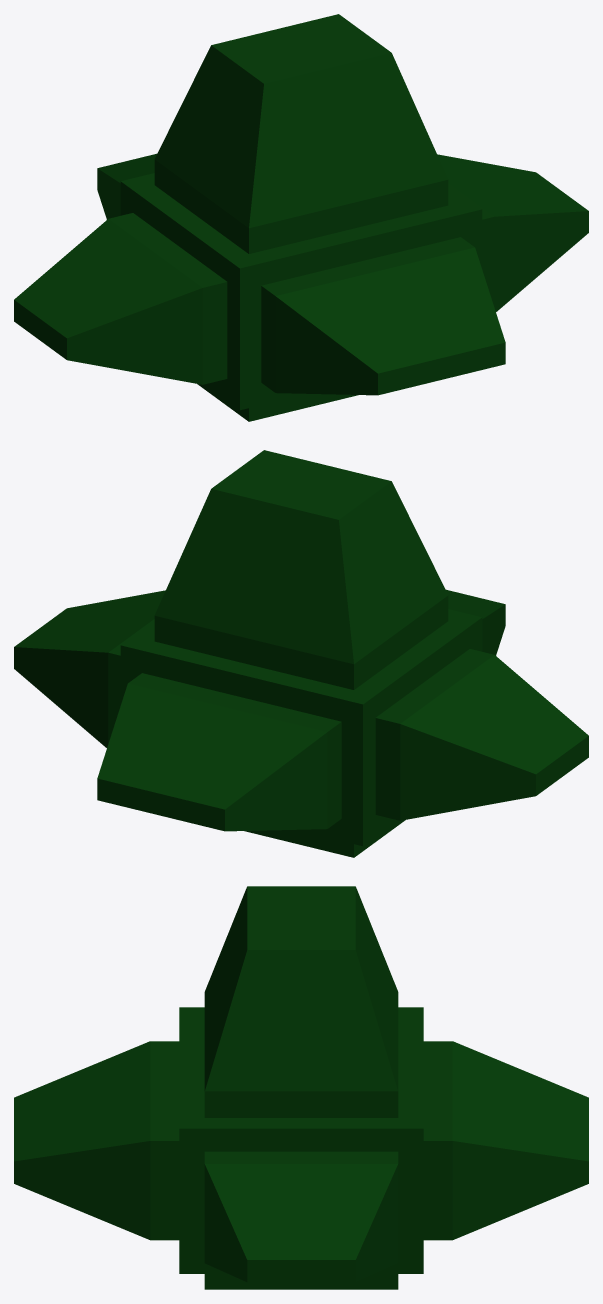
File: bush.fbx
3 views of the same model, one above another, from view 1: azimuth 30°, elevation 25°; view 2: azimuth 150°, elevation 25°; view 3: azimuth 270°, elevation 25° (orthographic). The views are drawn at different scales.
Parts seen in each view (by area): view 1: Box001; view 2: Box001; view 3: Box001.
Boxes of the visible parts, bbox=[...] form: Box001: bbox=[14, 14, 588, 421]; Box001: bbox=[14, 450, 588, 857]; Box001: bbox=[14, 886, 588, 1289].
Bounding box in the file's own units: 211 × 121 × 197.
